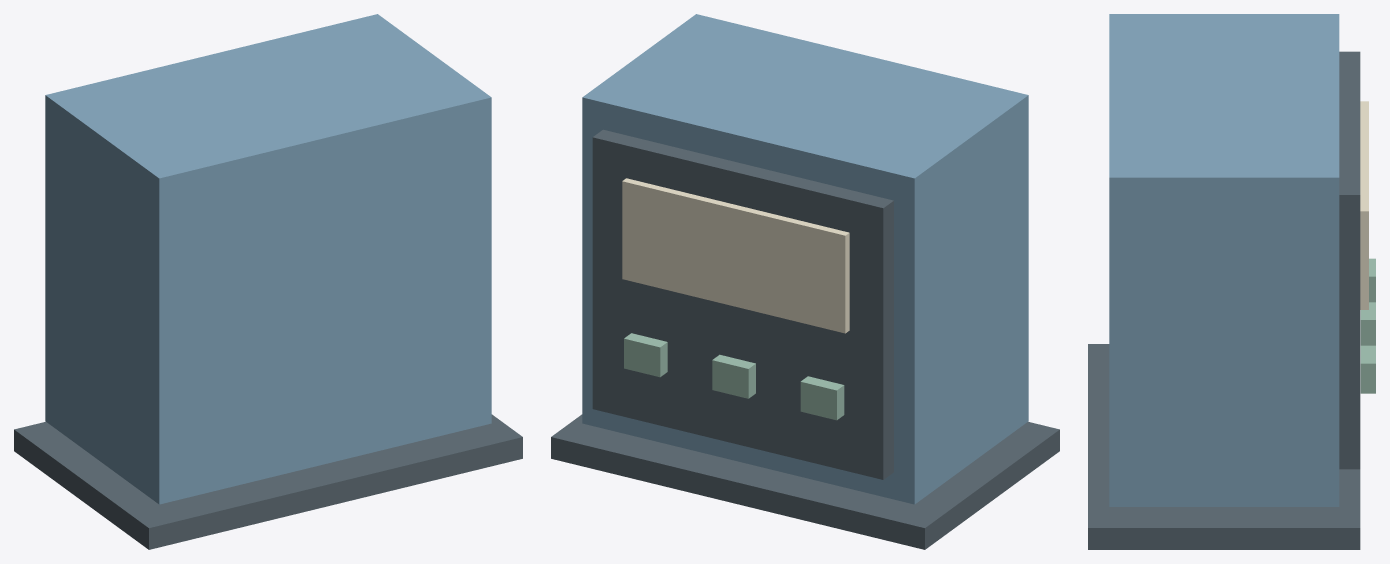
The model's file is field-terminal.glb.
3 views of the same model, side by side, from view 1: azimuth 30°, elevation 25°; view 2: azimuth 150°, elevation 25°; view 3: azimuth 270°, elevation 25° (orthographic).
Parts seen in each view (by area): view 1: field-terminal; view 2: field-terminal; view 3: field-terminal.
Part boxes in pixels (x1=…): field-terminal: x1=14, y1=14, x2=522, y2=549; field-terminal: x1=551, y1=14, x2=1059, y2=549; field-terminal: x1=1088, y1=14, x2=1375, y2=549.
Bounding box in the file's own units: 0.72 × 0.66 × 0.4755.
